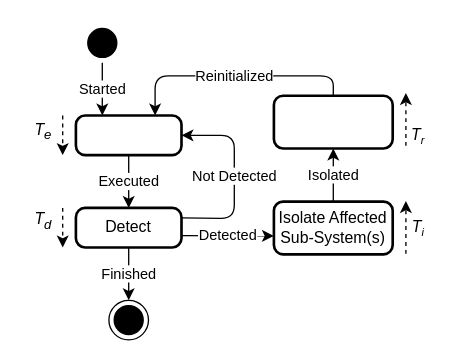
Image size: 459x363. Some labels were removed from this diagram. Here are the shapes that lost their labels. From the top down, the centre of each, then its label:
the point at 128,135: Execute
the point at 332,121: Reset System/ Sub-System(s)
